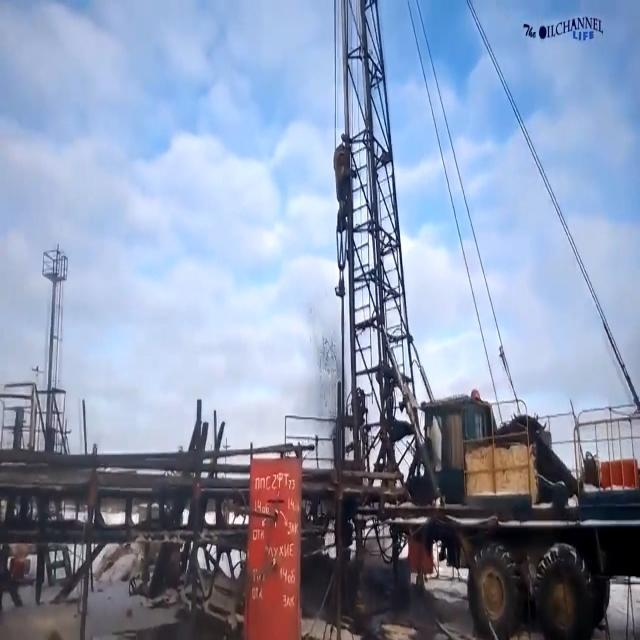spillage: (297, 548, 468, 640), (118, 607, 240, 640)
